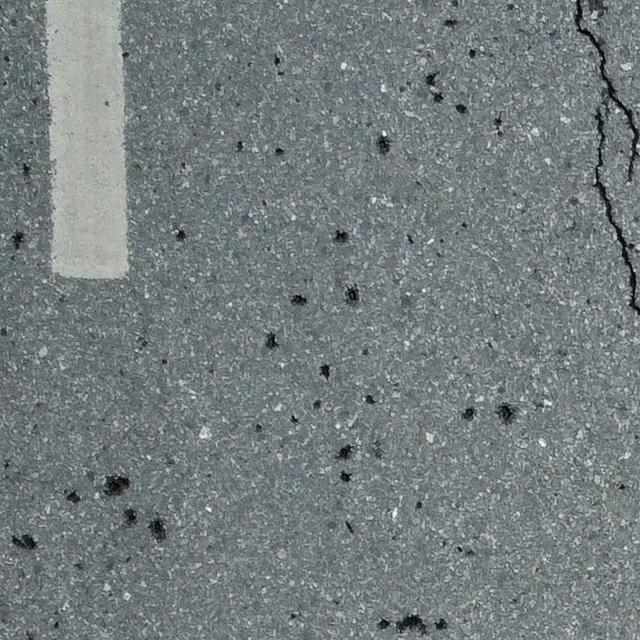LongitudinalCrack: (572, 1, 640, 313)
